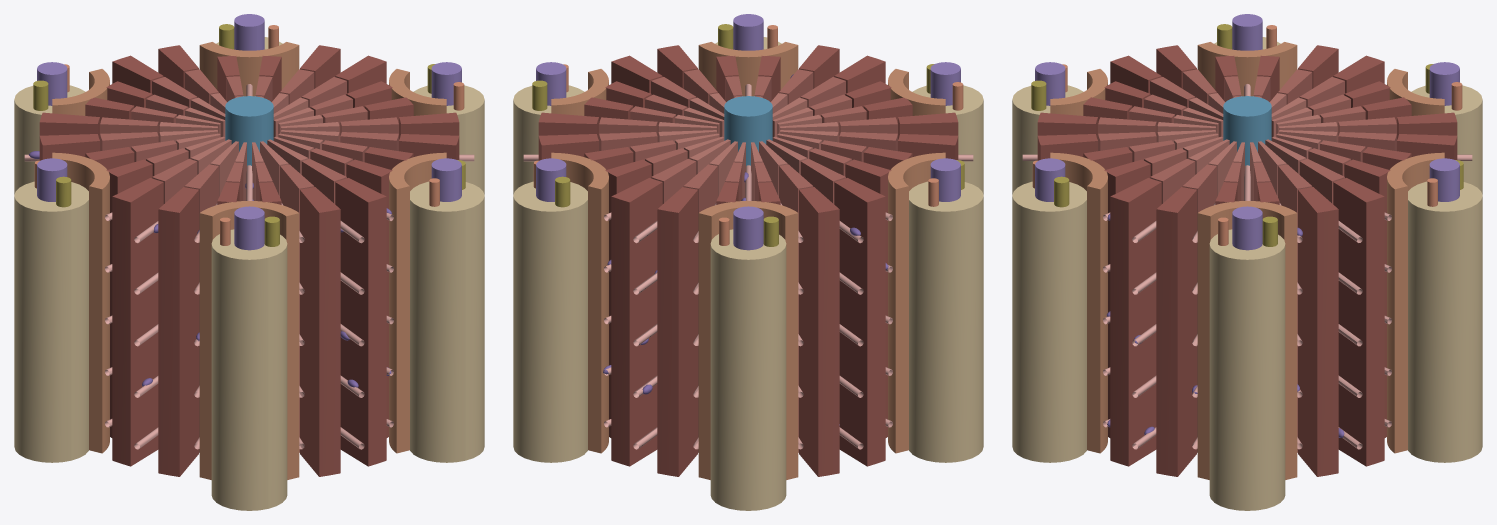
Rendered from liver-lobule.glb.
The picture shows the model from 3 angles, left to right: view 1: azimuth 30°, elevation 25°; view 2: azimuth 150°, elevation 25°; view 3: azimuth 270°, elevation 25°; orthographic projection.
Parts seen in each view (by area): view 1: periportal-hepatocytes, portal-tract-stroma, limiting-plate, midzonal-hepatocytes, centrilobular-hepatocytes, portal-venules, sinusoids, central-vein, bile-ducts, hepatic-arterioles; view 2: periportal-hepatocytes, portal-tract-stroma, limiting-plate, midzonal-hepatocytes, centrilobular-hepatocytes, portal-venules, sinusoids, central-vein, bile-ducts, hepatic-arterioles; view 3: periportal-hepatocytes, portal-tract-stroma, limiting-plate, midzonal-hepatocytes, centrilobular-hepatocytes, portal-venules, sinusoids, central-vein, bile-ducts, hepatic-arterioles.
Boxes of the visible parts, x1=… form: periportal-hepatocytes: x1=39, y1=45, x2=459, y2=476; portal-tract-stroma: x1=14, y1=37, x2=484, y2=510; limiting-plate: x1=52, y1=42, x2=446, y2=479; midzonal-hepatocytes: x1=100, y1=69, x2=398, y2=452; centrilobular-hepatocytes: x1=159, y1=93, x2=339, y2=200; portal-venules: x1=37, y1=14, x2=461, y2=250; sinusoids: x1=24, y1=84, x2=474, y2=449; central-vein: x1=225, y1=96, x2=273, y2=165; bile-ducts: x1=33, y1=24, x2=465, y2=246; hepatic-arterioles: x1=34, y1=25, x2=464, y2=245; periportal-hepatocytes: x1=538, y1=45, x2=958, y2=476; portal-tract-stroma: x1=513, y1=37, x2=983, y2=510; limiting-plate: x1=551, y1=42, x2=945, y2=479; midzonal-hepatocytes: x1=599, y1=69, x2=897, y2=452; centrilobular-hepatocytes: x1=658, y1=93, x2=838, y2=200; portal-venules: x1=536, y1=14, x2=960, y2=250; sinusoids: x1=523, y1=84, x2=973, y2=449; central-vein: x1=724, y1=96, x2=772, y2=165; bile-ducts: x1=532, y1=24, x2=964, y2=246; hepatic-arterioles: x1=533, y1=25, x2=963, y2=245; periportal-hepatocytes: x1=1037, y1=45, x2=1457, y2=476; portal-tract-stroma: x1=1012, y1=37, x2=1482, y2=510; limiting-plate: x1=1050, y1=42, x2=1444, y2=479; midzonal-hepatocytes: x1=1098, y1=69, x2=1396, y2=452; centrilobular-hepatocytes: x1=1157, y1=93, x2=1337, y2=200; portal-venules: x1=1035, y1=14, x2=1459, y2=250; sinusoids: x1=1022, y1=84, x2=1472, y2=449; central-vein: x1=1223, y1=96, x2=1271, y2=165; bile-ducts: x1=1031, y1=24, x2=1463, y2=246; hepatic-arterioles: x1=1032, y1=25, x2=1462, y2=245.
Bounding box in the file's own units: 7 × 4.5 × 6.2.
